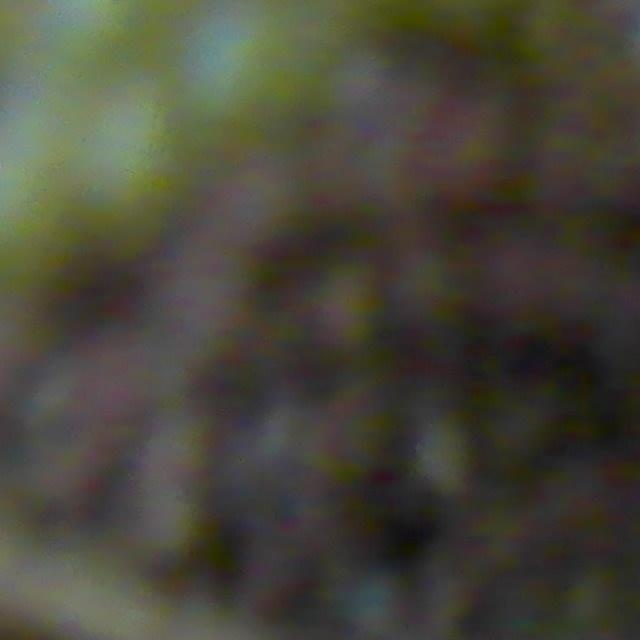SeaGrape: (53, 80, 210, 225), (171, 1, 329, 135), (436, 115, 521, 224), (494, 238, 558, 333), (313, 278, 377, 373), (399, 246, 458, 337), (409, 419, 475, 494), (581, 65, 640, 132)
